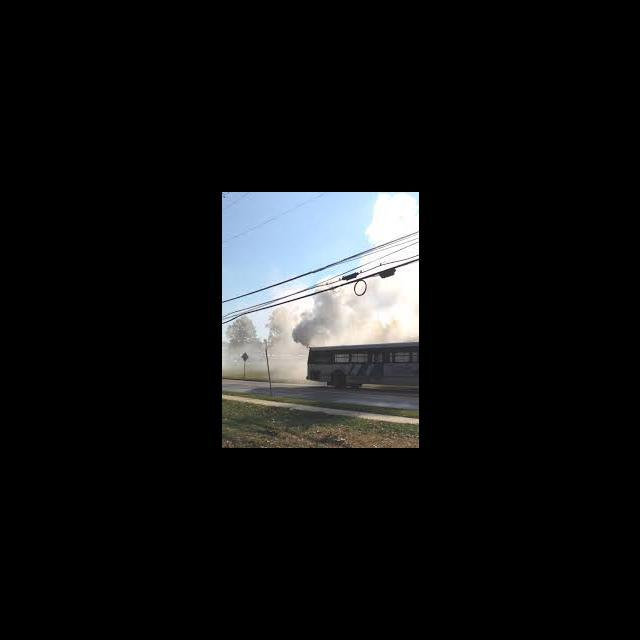Smoke: (296, 201, 418, 344), (222, 316, 302, 383)
